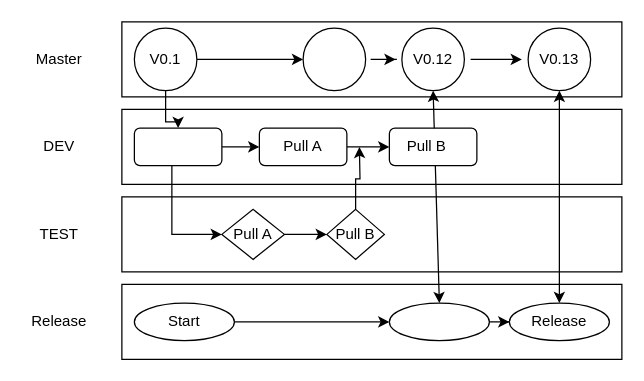
This 644x381 diagram has some shape labels left out. The shapes that lost their labels are listed below. From the top down, each one's centre as x and y in pixels, then its label:
(x=334, y=59): V0.11
(x=177, y=146): branch
(x=438, y=321): Pre-relase
